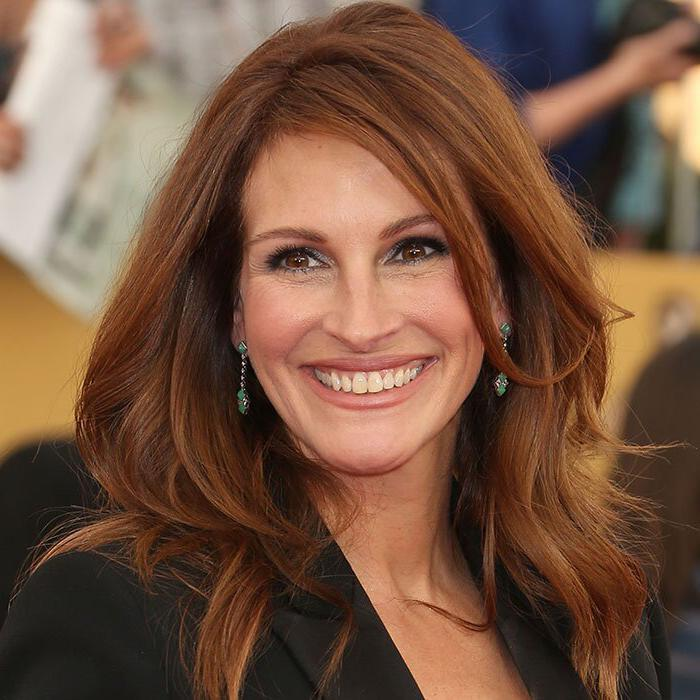Sober: (239, 133, 479, 448)
